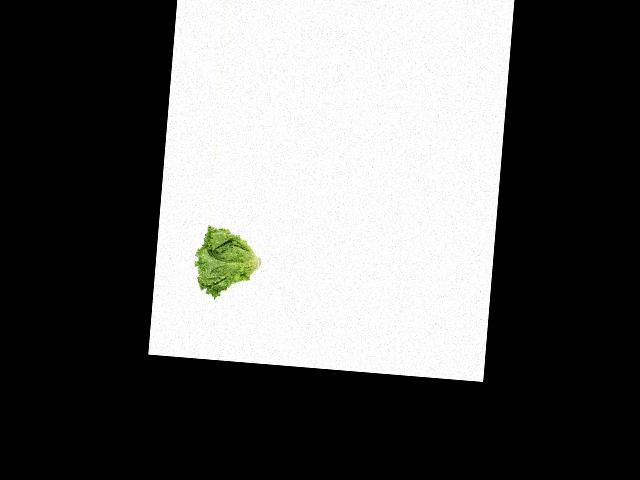lettuce: (188, 223, 265, 299)
